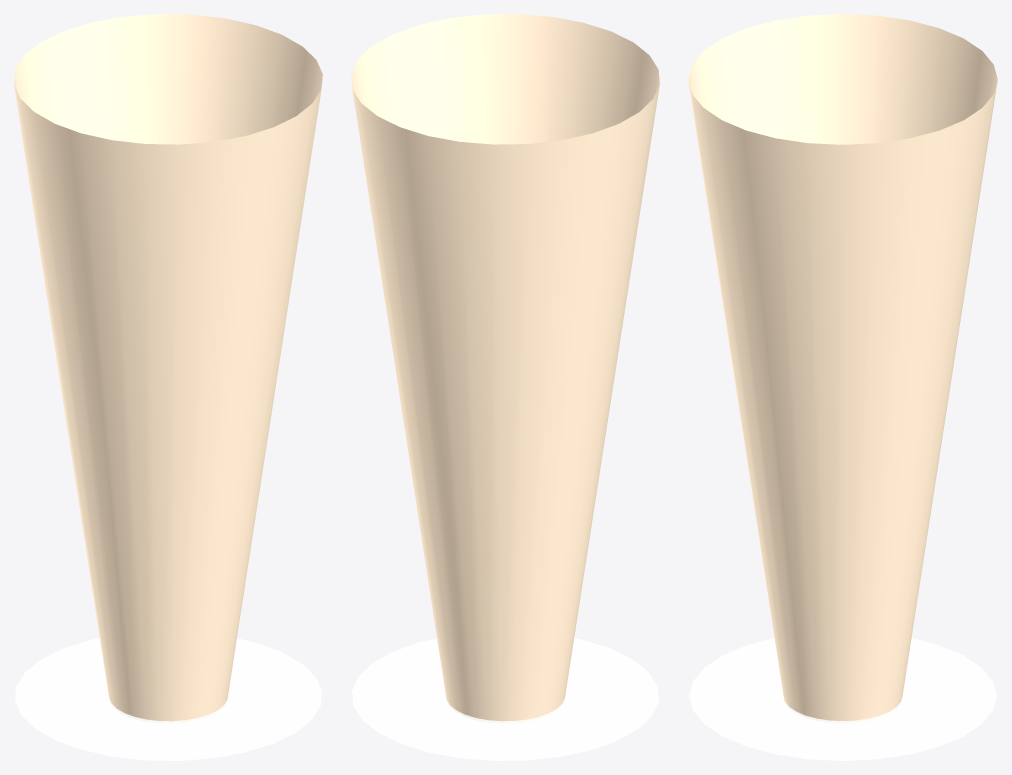
File: beam.glb
The picture shows the model from 3 angles, left to right: view 1: azimuth 30°, elevation 25°; view 2: azimuth 150°, elevation 25°; view 3: azimuth 270°, elevation 25°; orthographic projection.
Parts seen in each view (by area): view 1: beam; view 2: beam; view 3: beam.
Part boxes in pixels (left/top/right/bottom): beam: left=14, top=14, right=322, bottom=760; beam: left=351, top=14, right=659, bottom=760; beam: left=688, top=14, right=997, bottom=760.
Bounding box in the file's own units: 0.068 × 0.15 × 0.068.
